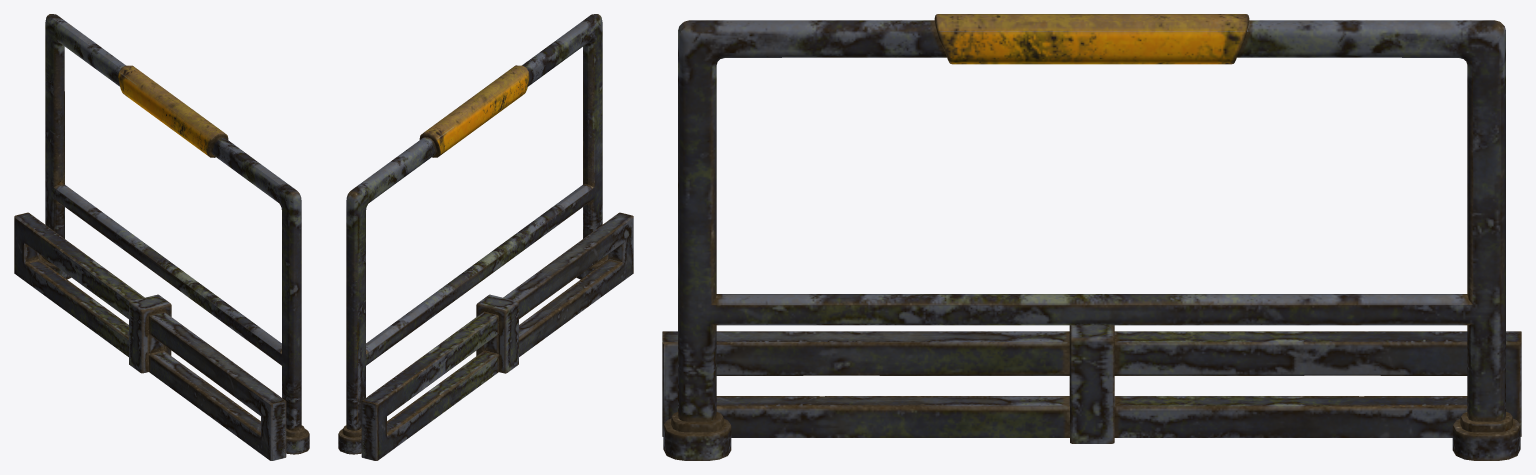
Rendered from SM_Scaffolding_pCube176.fbx.
3 views of the same model, side by side, from view 1: azimuth 30°, elevation 25°; view 2: azimuth 150°, elevation 25°; view 3: azimuth 270°, elevation 25° (orthographic). The views are drawn at different scales.
Visible parts, largest first — view 1: SM_Scaffolding_pCube176_LOD0; view 2: SM_Scaffolding_pCube176_LOD0; view 3: SM_Scaffolding_pCube176_LOD0.
Part boxes in pixels (bbox=[...]): SM_Scaffolding_pCube176_LOD0: bbox=[14, 14, 309, 460]; SM_Scaffolding_pCube176_LOD0: bbox=[338, 14, 633, 460]; SM_Scaffolding_pCube176_LOD0: bbox=[662, 14, 1521, 460].
Bounding box in the file's own units: 23.08 × 200 × 112.
1 material, 1 textured.
